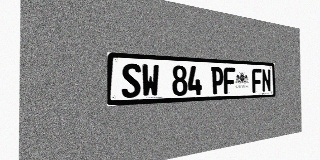4: (188, 66, 202, 95)
8: (172, 65, 187, 96)
F: (224, 67, 235, 94), (252, 68, 262, 93)
N: (262, 69, 271, 92)
P: (211, 67, 223, 94)
S: (121, 63, 141, 98)
W: (141, 64, 159, 97)
